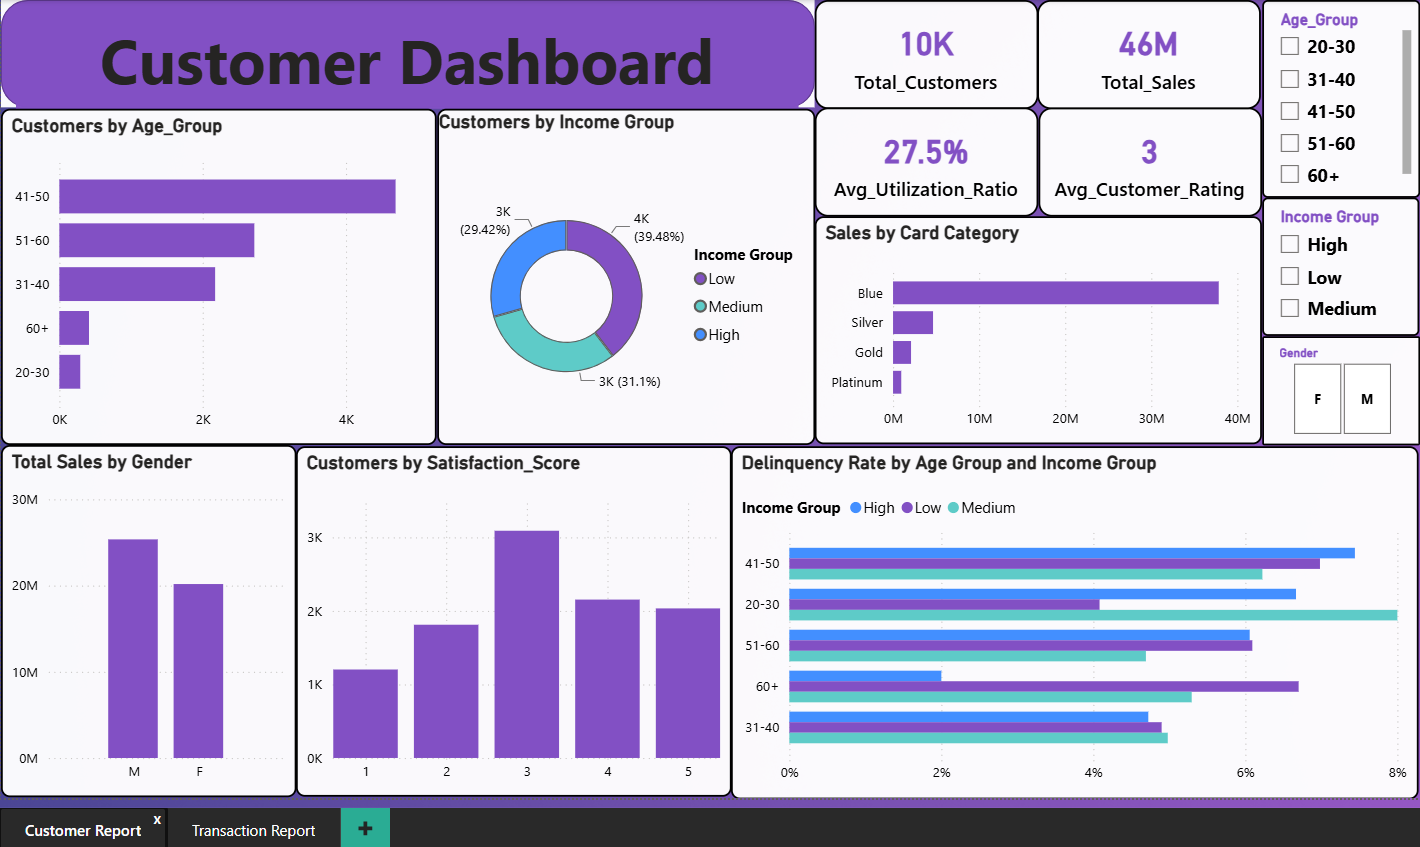

The page's visual inventory and layout, read from the dashboard file:
{"tool":"powerbi","page":{"name":"Customer Report","canvas":[1280,720],"ordinal":0},"visuals":[{"type":"slicer","fields":{"Values":["Customer.Income Group"]},"box":[1137.6,178.4,141.3,124.9],"z":0},{"type":"slicer","fields":{"Values":["Customer.Age_Group"]},"box":[1137.6,0,142.7,178.4],"z":1000},{"type":"slicer","fields":{"Values":["Customer.Gender"]},"box":[1137.6,303.3,142.7,98.8],"z":2000},{"type":"shape","box":[0,0,733.9,97],"z":3000},{"type":"textbox","box":[13.7,9.6,705.3,87.8],"z":4000},{"type":"card","fields":{"Values":["Customer.Total_Customers"]},"box":[734.1,0,201.7,98.8],"z":5000},{"type":"card","fields":{"Values":["Customer.Avg_Income"]},"box":[935.9,0,201.7,98.8],"z":6000},{"type":"card","fields":{"Values":["Customer.Delinquency_Rate"]},"box":[935.9,97.4,201.7,98.8],"z":7000},{"type":"card","fields":{"Values":["Customer.Avg_Utilization_Ratio"]},"box":[734.1,97.4,201.7,98.8],"z":8000},{"type":"clusteredBarChart","title":"Customers by Age_Group","fields":{"Category":["Customer.Age_Group"],"Y":["Customer.Total_Customers"]},"box":[0,98.3,393.1,303.5],"z":9000},{"type":"donutChart","title":"Customers by Income Group","fields":{"Category":["Customer.Income Group"],"Y":["Customer.Total_Customers"]},"box":[393.1,98.3,340.8,303.5],"z":10000},{"type":"clusteredBarChart","title":"Revenue by Card_Category","fields":{"Y":["Customer.Total_Revenue"],"Category":["Transaction.Card_Category"]},"box":[733.9,195.3,403.4,205.8],"z":11000},{"type":"clusteredBarChart","fields":{"Y":["Customer.Delinquency_Rate"],"Category":["Customer.Age_Group"],"Series":["Customer.Income Group"]},"box":[658.7,402.1,620.2,318.4],"z":12000},{"type":"clusteredBarChart","fields":{"Y":["Customer.Avg_Satisfaction_Score"],"Category":["Customer.Marital_Status"],"Series":["Customer.Education_Level"]},"box":[0,401.8,658.1,318.5],"z":13000}]}

Visuals, with their boxes in screenshot pixels (x1, y1, x2, y2):
slicer - Customer.Income Group: <box>1256,195,1410,332</box>
slicer - Customer.Age_Group: <box>1256,0,1412,195</box>
slicer - Customer.Gender: <box>1256,332,1412,440</box>
shape: <box>11,0,814,106</box>
textbox: <box>26,11,798,107</box>
card - Customer.Total_Customers: <box>814,0,1035,108</box>
card - Customer.Avg_Income: <box>1035,0,1256,108</box>
card - Customer.Delinquency_Rate: <box>1035,107,1256,215</box>
card - Customer.Avg_Utilization_Ratio: <box>814,107,1035,215</box>
"Customers by Age_Group" clusteredBarChart: <box>11,108,441,440</box>
"Customers by Income Group" donutChart: <box>441,108,814,440</box>
"Revenue by Card_Category" clusteredBarChart: <box>814,214,1255,439</box>
clusteredBarChart - Customer.Delinquency_Rate x Customer.Age_Group: <box>732,440,1410,788</box>
clusteredBarChart - Customer.Avg_Satisfaction_Score x Customer.Marital_Status: <box>11,440,731,788</box>
